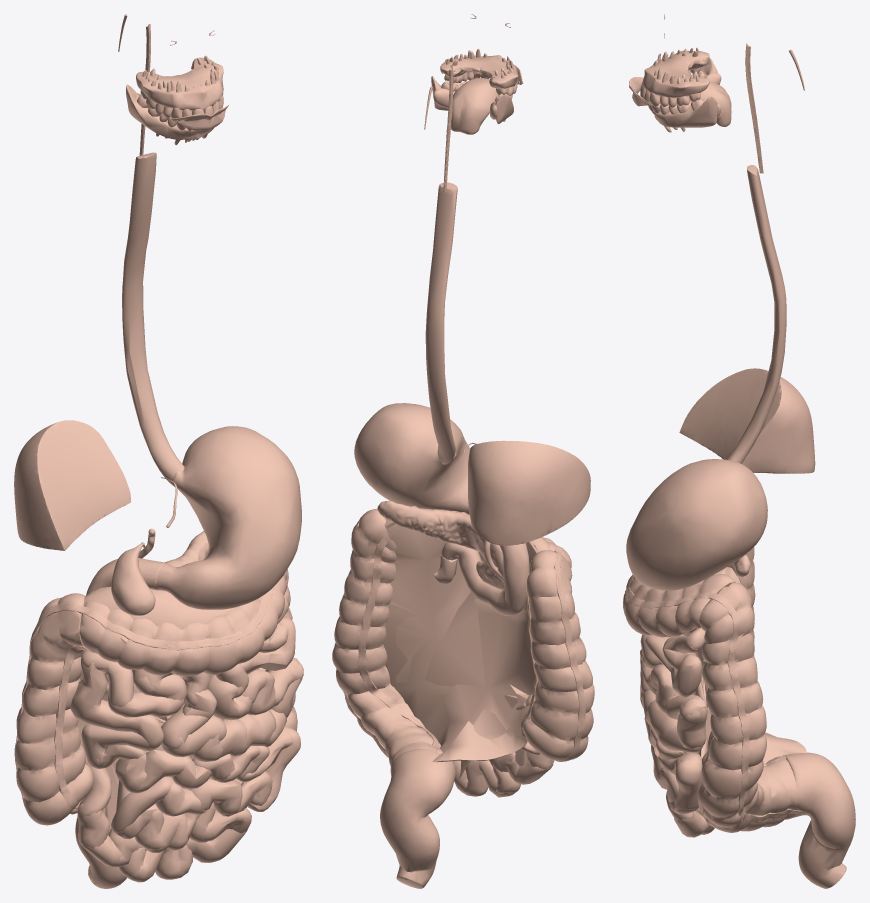
File: digestive.glb
3 renders of one model, left to right at view 1: azimuth 30°, elevation 25°; view 2: azimuth 150°, elevation 25°; view 3: azimuth 270°, elevation 25°, orthographic. The views are drawn at different scales.
Visible parts, largest first — view 1: FMA7148_Stomach, FMA16983_Distal_part_of_jejunum, FMA15747_Hepatovenous_segment_IX, FMA14545_Ascending_colon, FMA14546_Transverse_colon, FMA14964_Proximal_part_of_ileum, FMA7131_Esophagus, FMA14965_Middle_part_of_ileum, FMA14966_Distal_part_of_ileum, FMA16981_Proximal_part_of_jejunum, FMA16982_Middle_part_of_jejunum, FMA59763_Gingiva_of_upper_jaw (+10 smaller); view 2: FMA14647_Transverse_mesocolon, FMA15747_Hepatovenous_segment_IX, FMA14547_Descending_colon, FMA14545_Ascending_colon, FMA7148_Stomach, FMA14544_Rectum, FMA7131_Esophagus, FMA7206_Duodenum, FMA14966_Distal_part_of_ileum, FMA7198_Pancreas, FMA15042_Taenia_mesocolica, FMA63120_Parenchyma_of_pancreas (+5 smaller); view 3: FMA14547_Descending_colon, FMA7148_Stomach, FMA15747_Hepatovenous_segment_IX, FMA14544_Rectum, FMA7131_Esophagus, FMA14546_Transverse_colon, FMA16982_Middle_part_of_jejunum, FMA16981_Proximal_part_of_jejunum, FMA15043_Taenia_omentalis, FMA59763_Gingiva_of_upper_jaw, FMA14964_Proximal_part_of_ileum, FMA59764_Gingiva_of_lower_jaw (+6 smaller).
Part boxes in pixels (x1,y1,x2,y2): FMA7148_Stomach: (156, 426, 301, 609); FMA16983_Distal_part_of_jejunum: (70, 650, 246, 761); FMA15747_Hepatovenous_segment_IX: (14, 420, 130, 550); FMA14545_Ascending_colon: (15, 593, 93, 825); FMA14546_Transverse_colon: (79, 570, 287, 676); FMA14964_Proximal_part_of_ileum: (81, 724, 300, 801); FMA7131_Esophagus: (122, 152, 184, 486); FMA14965_Middle_part_of_ileum: (111, 771, 275, 852); FMA14966_Distal_part_of_ileum: (77, 802, 251, 882); FMA16981_Proximal_part_of_jejunum: (207, 596, 295, 720); FMA16982_Middle_part_of_jejunum: (238, 657, 303, 753); FMA59763_Gingiva_of_upper_jaw: (136, 57, 223, 110); FMA14647_Transverse_mesocolon: (383, 519, 550, 762); FMA15747_Hepatovenous_segment_IX: (468, 440, 590, 545); FMA14547_Descending_colon: (332, 509, 455, 779); FMA14545_Ascending_colon: (523, 550, 594, 761); FMA7148_Stomach: (354, 403, 470, 514); FMA14544_Rectum: (380, 749, 454, 888); FMA7131_Esophagus: (425, 182, 457, 464); FMA7206_Duodenum: (441, 542, 529, 615); FMA14966_Distal_part_of_ileum: (454, 752, 554, 797); FMA7198_Pancreas: (377, 501, 504, 589); FMA15042_Taenia_mesocolica: (358, 533, 538, 751); FMA63120_Parenchyma_of_pancreas: (379, 501, 504, 589); FMA14547_Descending_colon: (696, 582, 797, 832); FMA7148_Stomach: (626, 459, 767, 590); FMA15747_Hepatovenous_segment_IX: (679, 368, 815, 473); FMA14544_Rectum: (782, 752, 855, 888); FMA7131_Esophagus: (727, 165, 786, 463); FMA14546_Transverse_colon: (623, 574, 735, 637); FMA16982_Middle_part_of_jejunum: (646, 667, 707, 752); FMA16981_Proximal_part_of_jejunum: (640, 628, 705, 697); FMA15043_Taenia_omentalis: (625, 574, 802, 822); FMA59763_Gingiva_of_upper_jaw: (642, 50, 709, 98); FMA14964_Proximal_part_of_ileum: (644, 717, 702, 814); FMA59764_Gingiva_of_lower_jaw: (652, 58, 717, 127).
Size of the model in its own units: 0.2443 by 0.76 by 0.1856.
